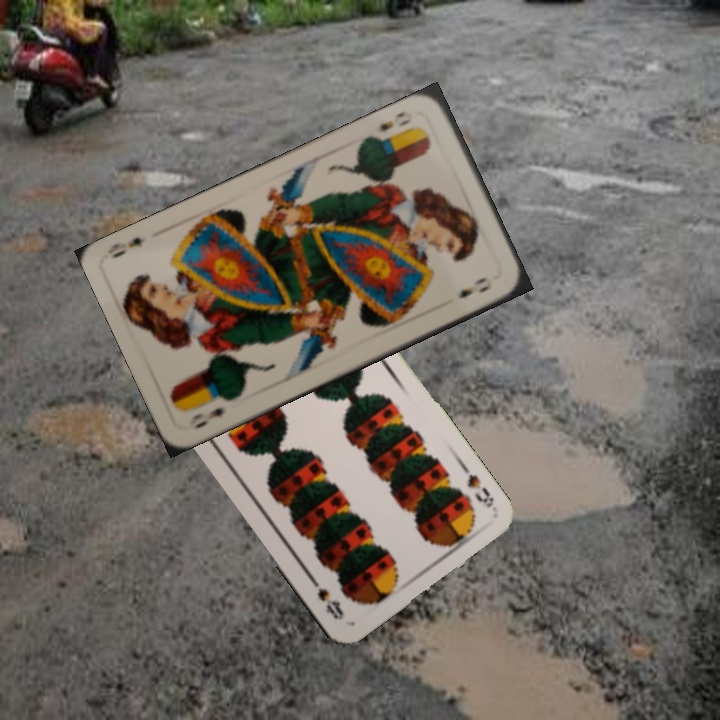EO: (184, 403, 227, 432), (374, 107, 414, 135)
S8: (456, 460, 497, 511)
